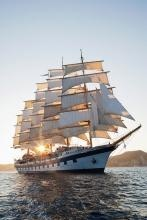fanchuan: (11, 54, 138, 176)
